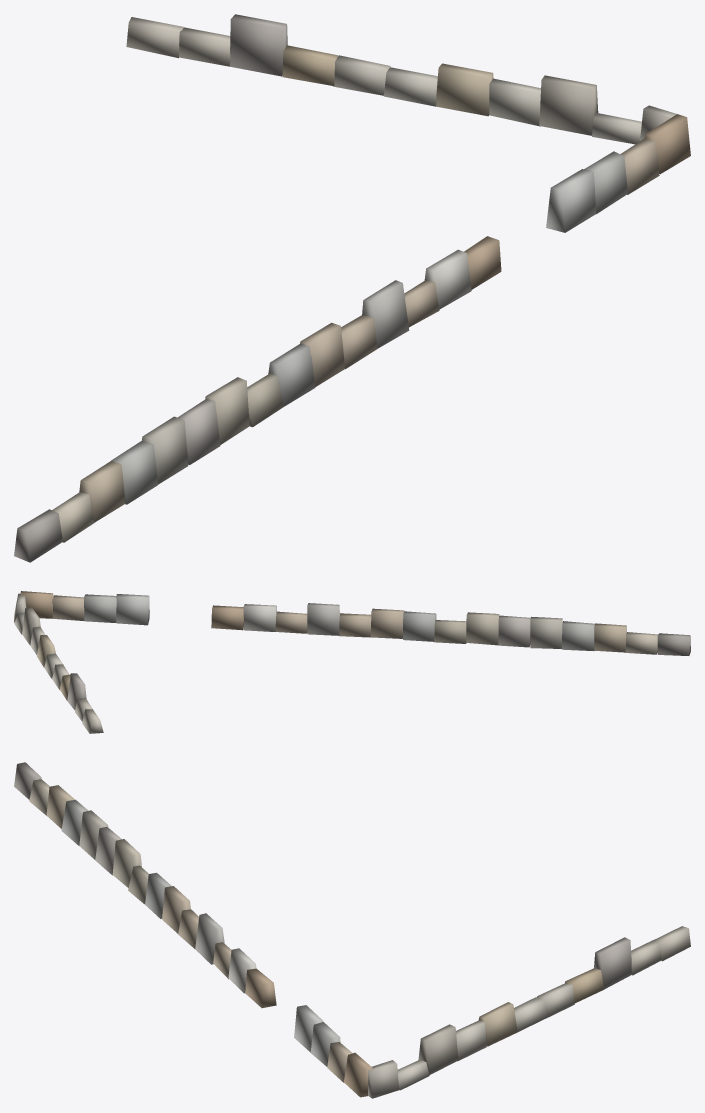
The model's file is farm_-40_-44_far.glb.
The picture shows the model from 3 angles, top to bottom: view 1: azimuth 30°, elevation 25°; view 2: azimuth 150°, elevation 25°; view 3: azimuth 270°, elevation 25°; orthographic projection. The views are drawn at different scales.
Parts seen in each view (by area): view 1: geometry_0; view 2: geometry_0; view 3: geometry_0.
Part boxes in pixels (x1,y1,x2,y2): geometry_0: [14, 14, 690, 562]; geometry_0: [14, 591, 690, 733]; geometry_0: [14, 762, 690, 1098].
Size of the model in its own units: 30.94 by 3.13 by 26.86.
